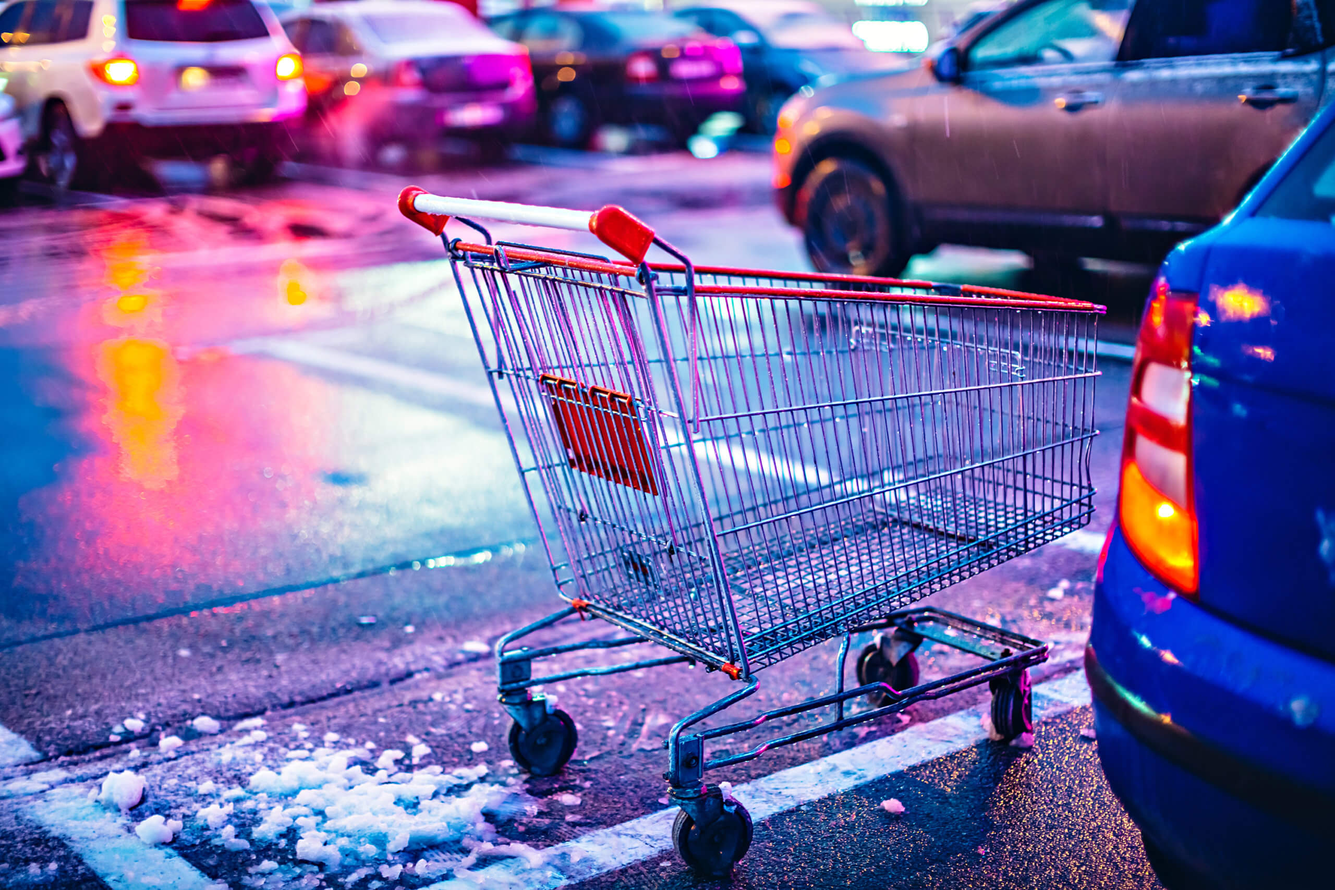Car: (756, 3, 1330, 301), (1, 1, 309, 188)
shopping_cart: (389, 180, 1095, 866)
